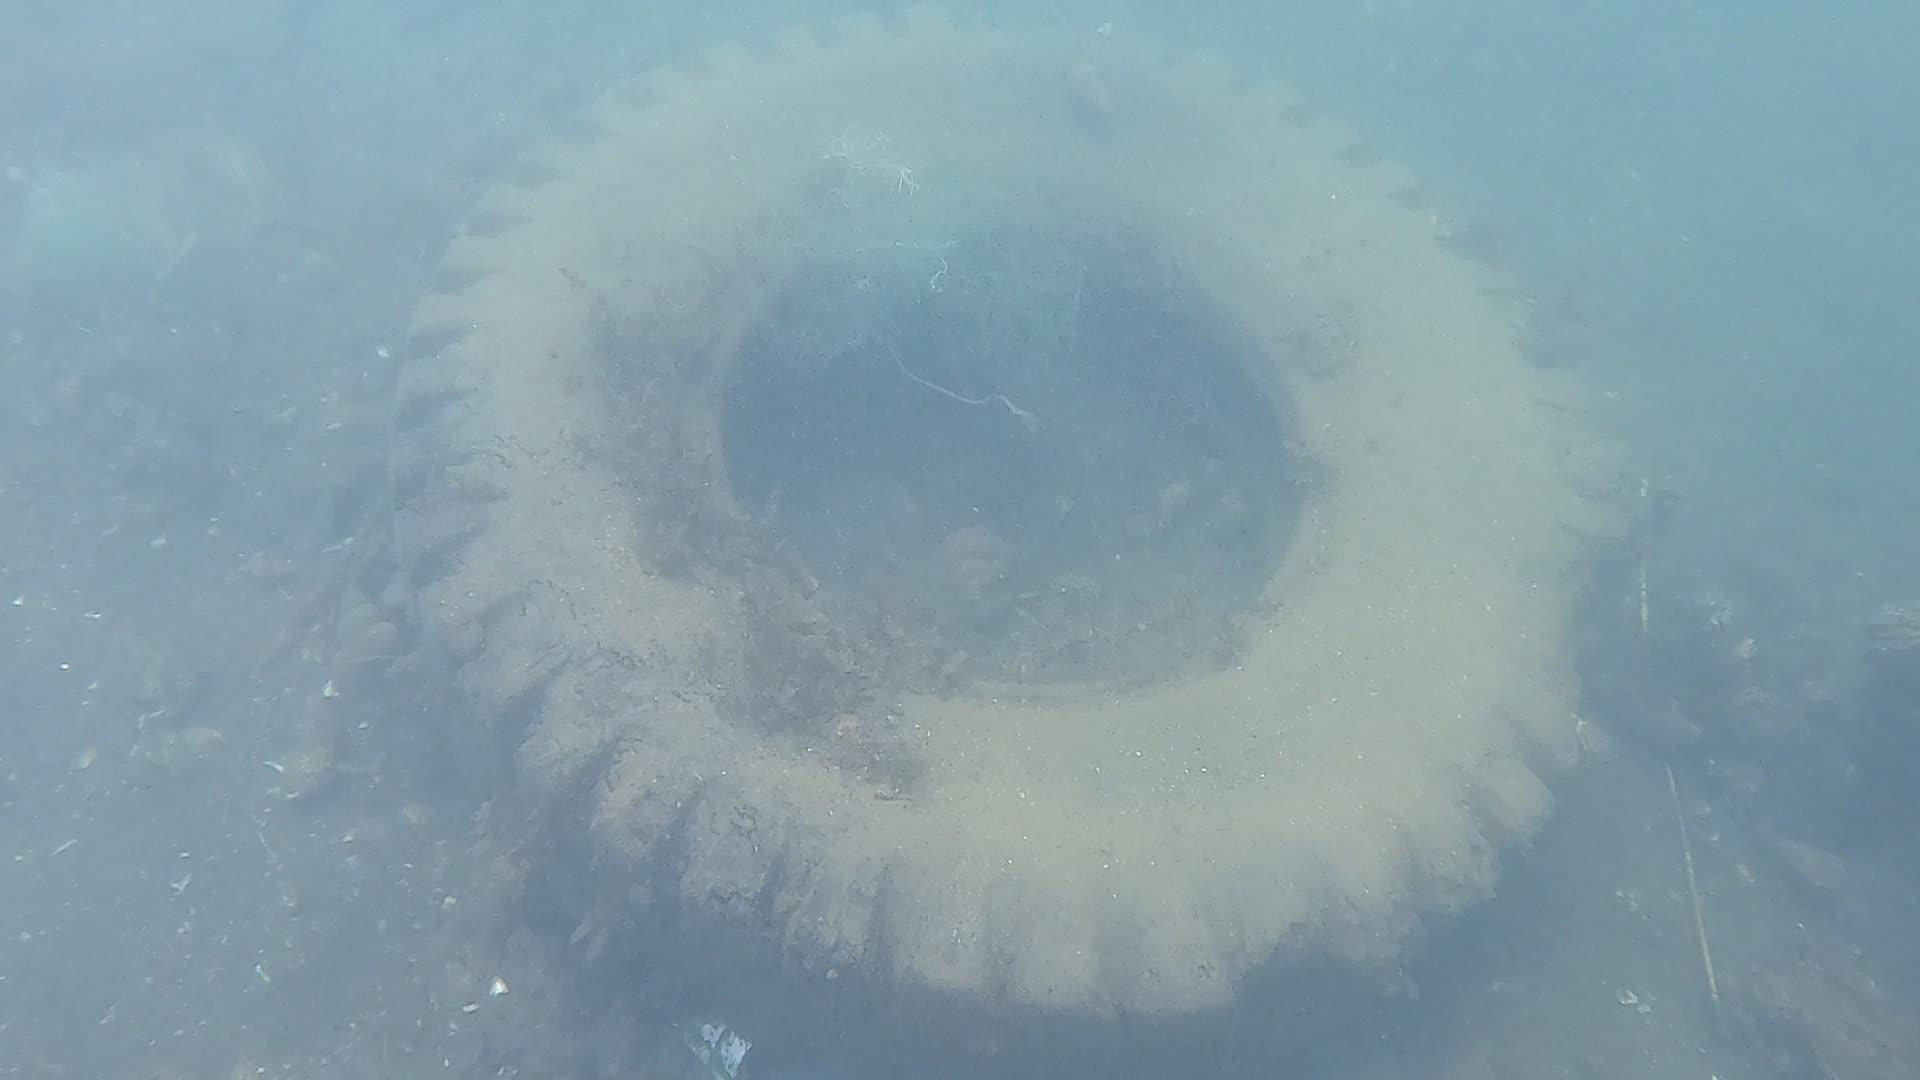tire: (378, 0, 1613, 1021)
